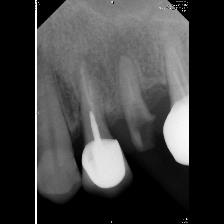apical_lesion: (64, 38, 134, 198), (109, 31, 157, 154)
